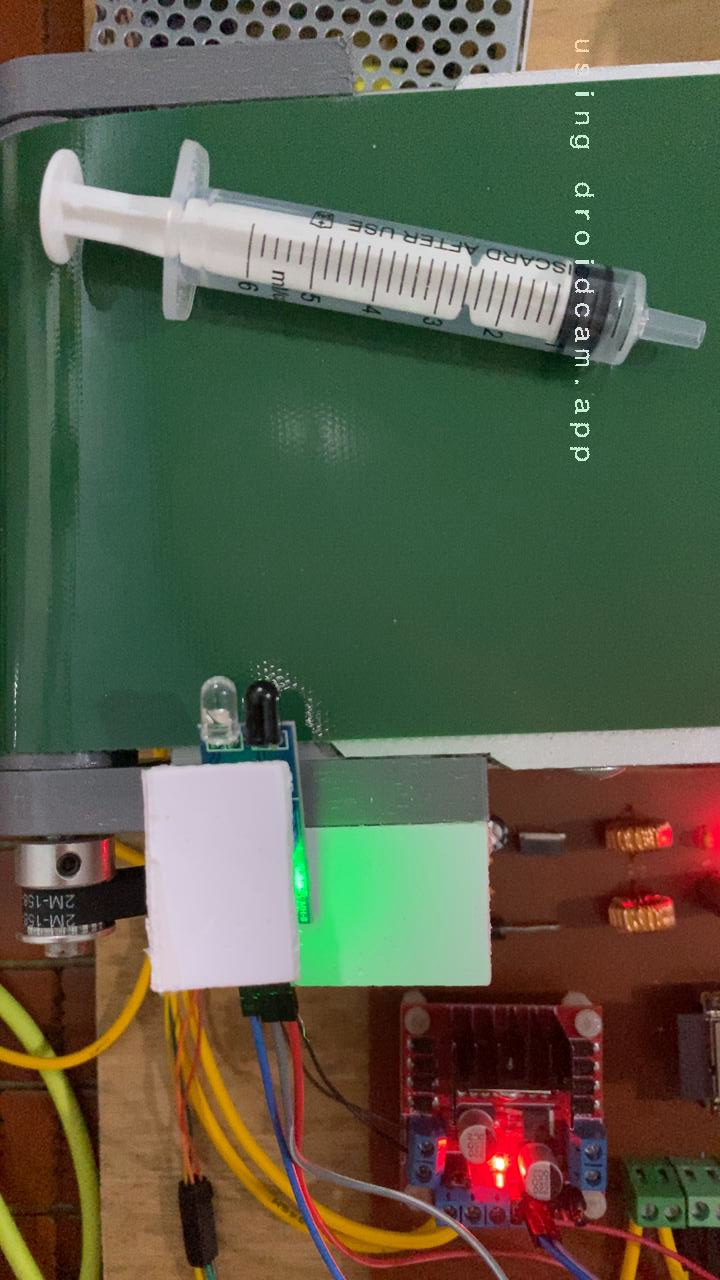syringe: (32, 133, 683, 373)
